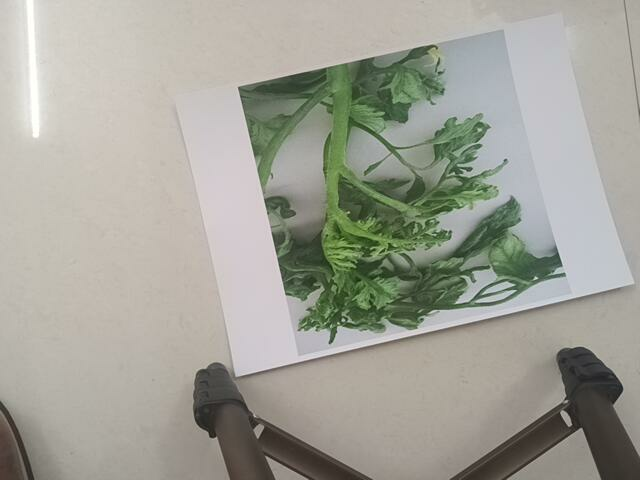Tomamto_Mosaic_virus: (245, 95, 574, 340)
